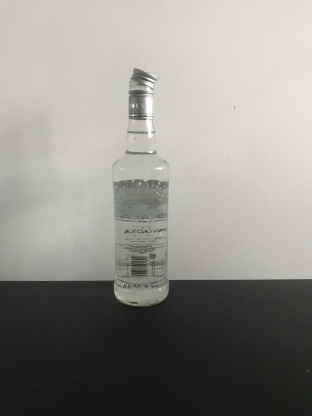nakretka: (126, 65, 159, 119)
